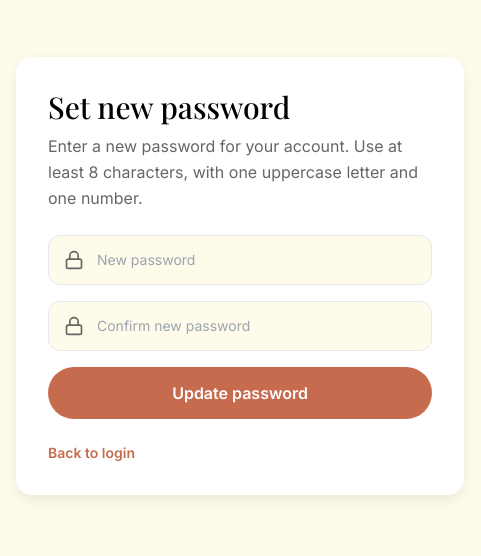
Test case: ResetPasswordPage › explains an expired session instead of Supabase's raw message
Type "Pottery2026" into the password field labelled "New password".
click(240, 260); type("Pottery2026")  # box [48,235,432,285]
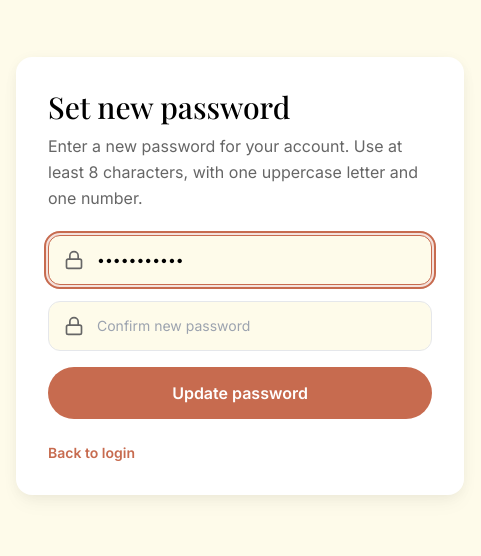
Type "Pottery2026" into the password field labelled "Confirm new password".
click(240, 326); type("Pottery2026")  # box [48,301,432,351]
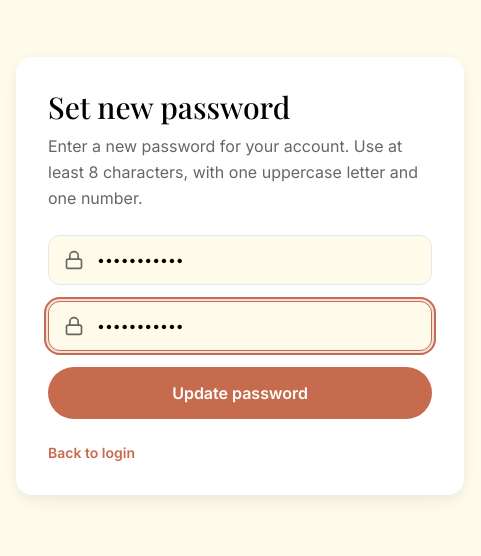
Click the button "Update password".
click(240, 393)  # box [48,367,432,419]
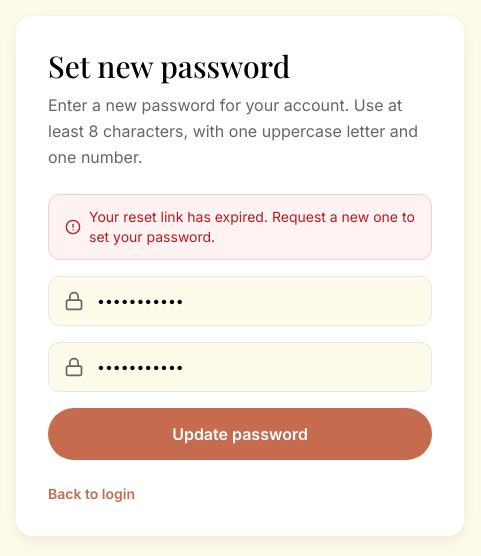
Expected: the message shows "Request a new one", [89,208,415,245]
